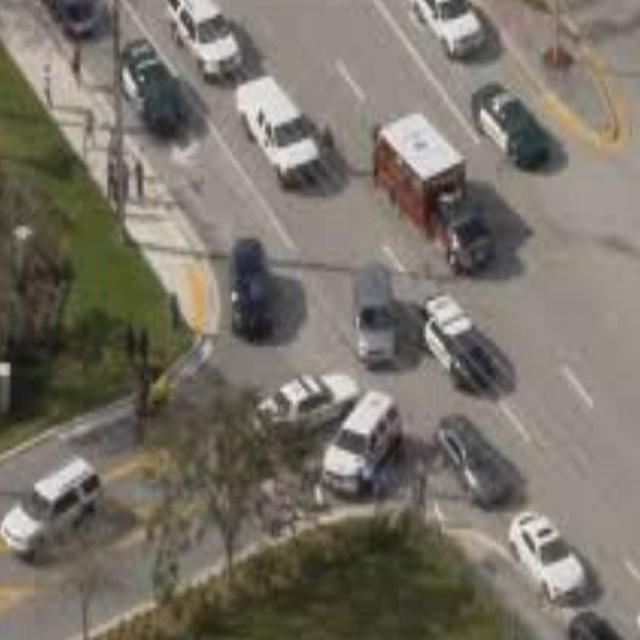traffic_incident: (186, 193, 523, 561)
